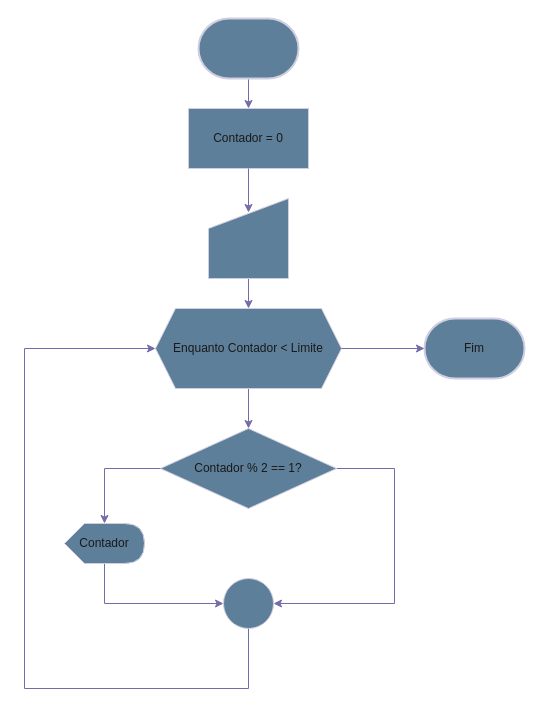
This 543x714 diagram has some shape labels left out. Each missing label, with the box of its shape:
Inicio: (197, 17, 299, 79)
Ler Limite: (208, 198, 288, 278)
